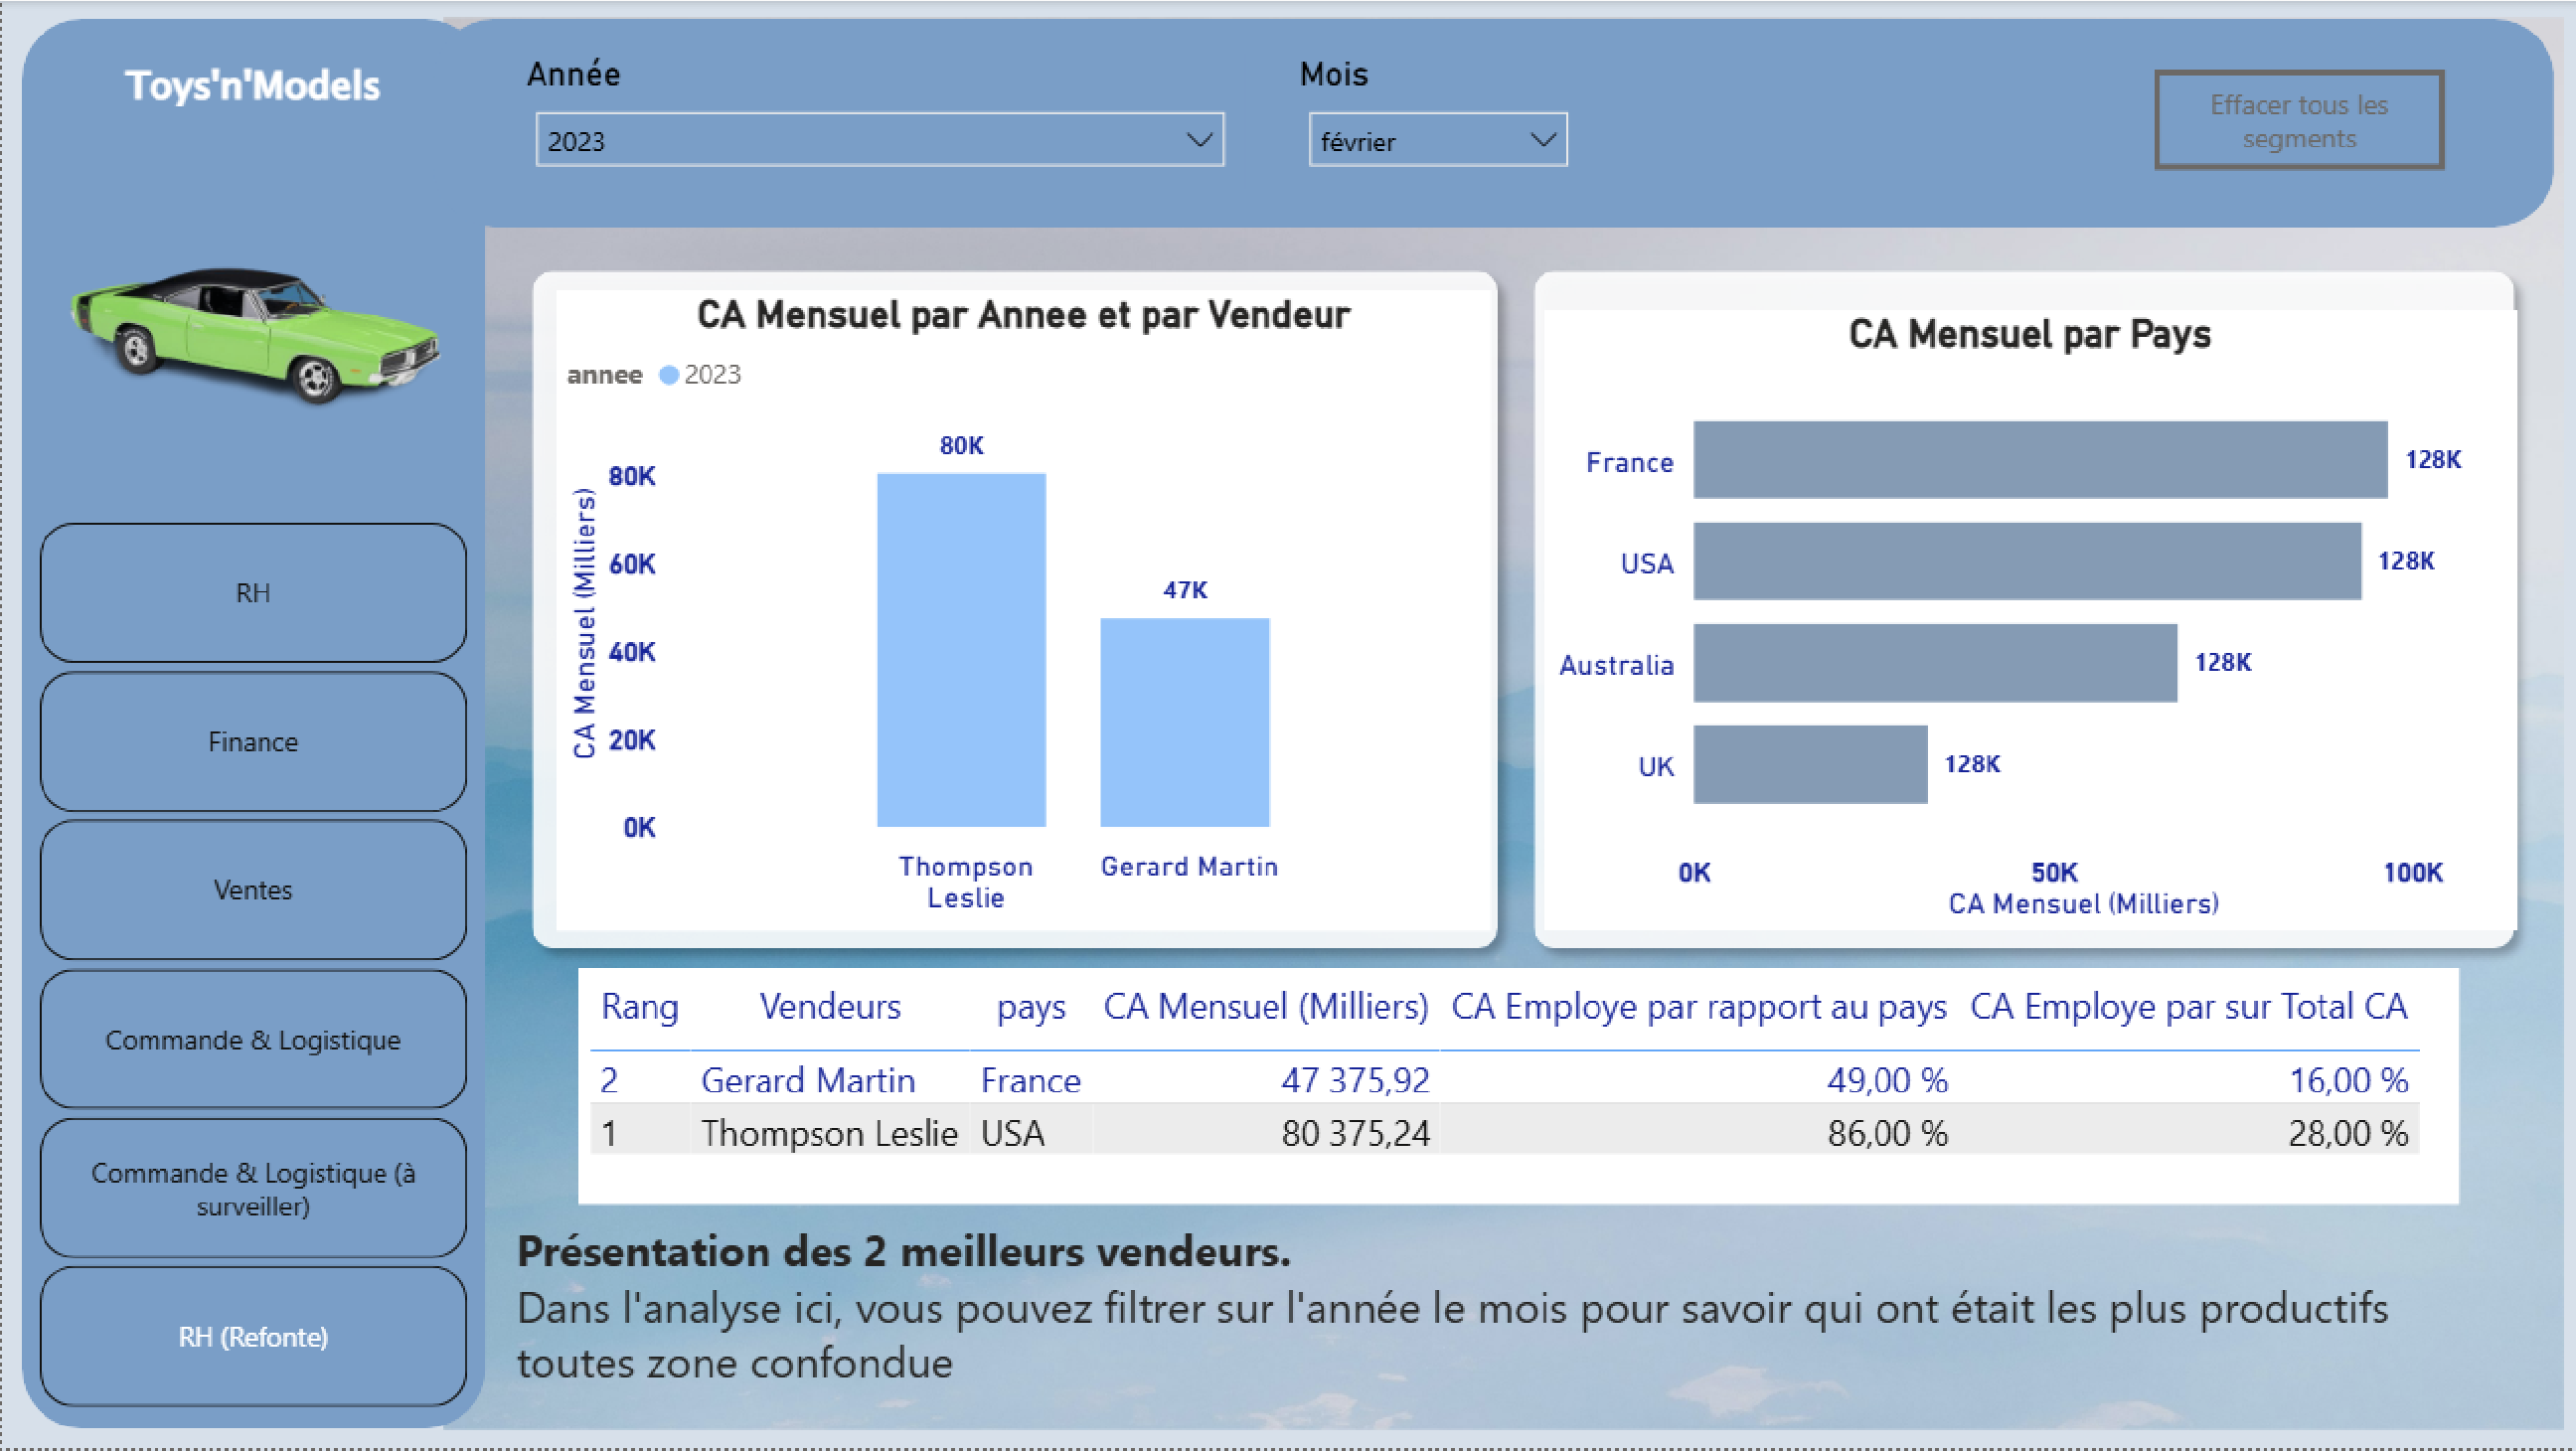

This screenshot's page, from the dashboard's own definition file:
{"tool":"powerbi","page":{"name":"RH","canvas":[1280,720],"ordinal":0},"visuals":[{"type":"textbox","box":[0,0,1280,79.7],"z":0},{"type":"actionButton","box":[0,0,100,40],"z":1000},{"type":"tableEx","fields":{"Values":["Sum(Requête1.rang)","Requête1.name","Requête1.pays","Sum(Requête1.chiffre_affaire_mensuel)","Sum(TOP2_EMPLOYE_RH.percent_CA_Employe_pays)","Sum(TOP2_EMPLOYE_RH.percent_CA_Employe_total)"]},"box":[218.5,91.2,967.7,152.9],"z":2000},{"type":"slicer","title":"Mois","fields":{"Values":["TOP2_EMPLOYE_RH.mois"]},"box":[0,323.9,118.2,395.8],"z":3000},{"type":"columnChart","title":"CA Mensuel par Annee et par Vendeur","fields":{"Category":["Requête1.name"],"Y":["Sum(Requête1.chiffre_affaire_mensuel)"],"Series":["TOP2_EMPLOYE_RH.annee"]},"box":[142.7,263.5,449.8,410],"z":4000},{"type":"slicer","title":"Annee","fields":{"Values":["Requête1.annee"]},"box":[0,79.7,118.2,244.2],"z":5000},{"type":"barChart","title":"CA Mensuel par Pays par pays","fields":{"Category":["CA_TOTAL_RH.pays"],"Y":["Sum(CA_TOTAL_RH.CA_total_pays)"]},"box":[601.4,263.5,511.5,410],"z":6000},{"type":"actionButton","title":"VENTES","box":[1204.2,290.4,73.3,66.8],"z":7000},{"type":"actionButton","title":"VENTES","box":[1204.2,361.1,73.3,66.8],"z":8000},{"type":"actionButton","title":"VENTES","box":[1204.2,431.8,73.3,66.8],"z":9000},{"type":"actionButton","title":"VENTES","box":[1206.7,502.5,73.3,66.8],"z":10000},{"type":"image","box":[1033.3,0,59.1,65.5],"z":10001}]}

Visuals, with their boxes in screenshot pixels (x1, y1, x2, y2), scaled from the page's 1280x720 canvas onto the 2576x1451 screenshot:
textbox: <box>0,0,2575,161</box>
actionButton: <box>0,0,201,81</box>
tableEx - Sum(Requête1.rang) x Requête1.name: <box>439,184,2387,492</box>
"Mois" slicer: <box>0,653,238,1450</box>
"CA Mensuel par Annee et par Vendeur" columnChart: <box>287,531,1193,1358</box>
"Annee" slicer: <box>0,161,238,653</box>
"CA Mensuel par Pays par pays" barChart: <box>1210,531,2240,1358</box>
"VENTES" actionButton: <box>2424,585,2571,720</box>
"VENTES" actionButton: <box>2424,727,2571,863</box>
"VENTES" actionButton: <box>2424,871,2571,1005</box>
"VENTES" actionButton: <box>2429,1013,2575,1147</box>
image: <box>2079,0,2198,132</box>
